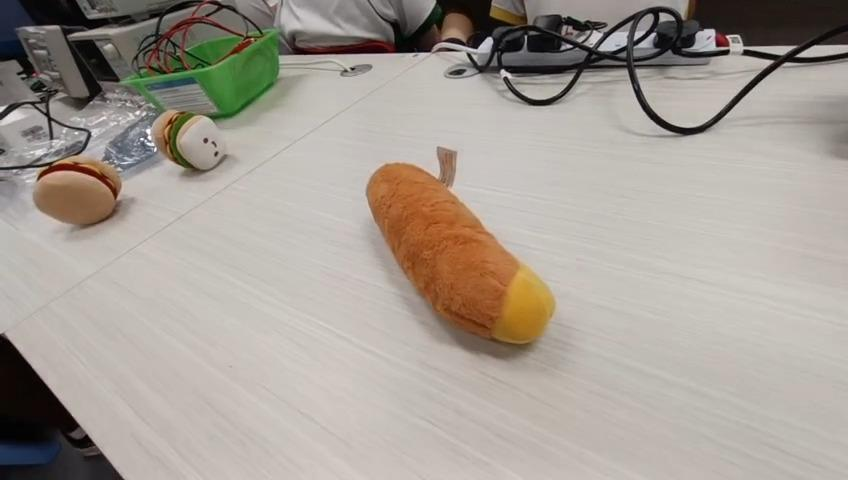hotdog: (364, 160, 556, 345)
